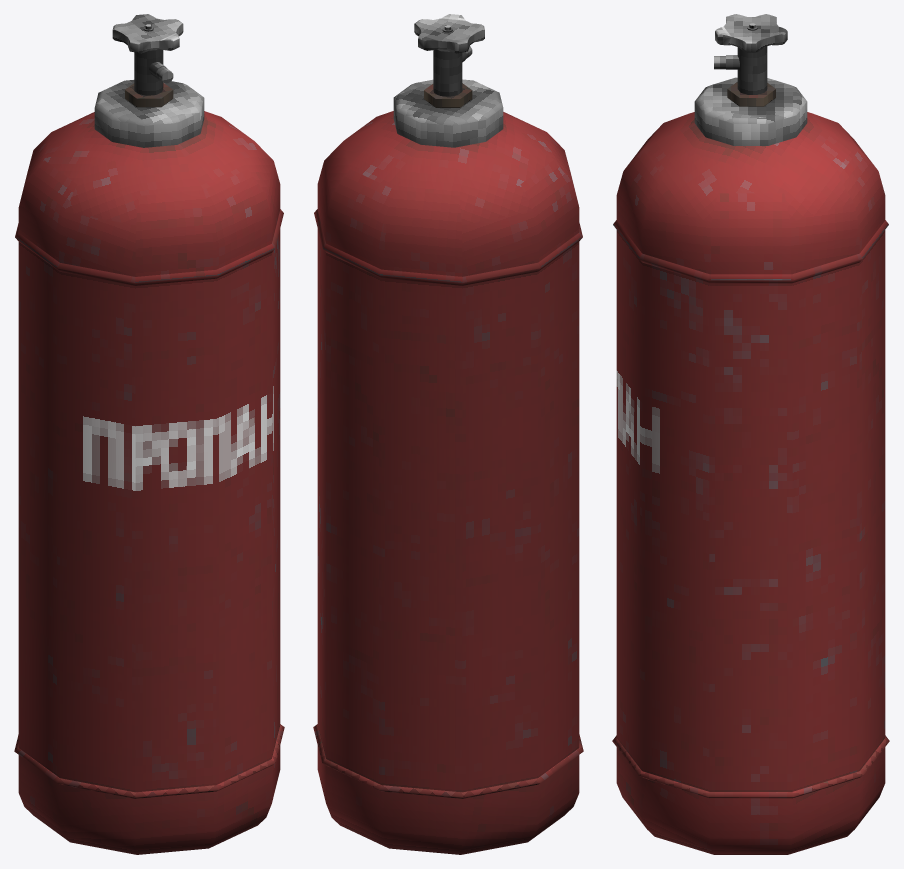
Rendered from lowpoly_propane_tank.glb.
3 renders of one model, left to right at view 1: azimuth 30°, elevation 25°; view 2: azimuth 150°, elevation 25°; view 3: azimuth 270°, elevation 25°, orthographic.
Parts seen in each view (by area): view 1: Object_2; view 2: Object_2; view 3: Object_2.
Part boxes in pixels (<box>): Object_2: <box>14,14,284,854</box>; Object_2: <box>313,14,583,854</box>; Object_2: <box>612,14,889,854</box>.
Bounding box in the file's own units: 0.4601 × 1.52 × 0.4837.
Materials: 1 (1 with a texture image).
